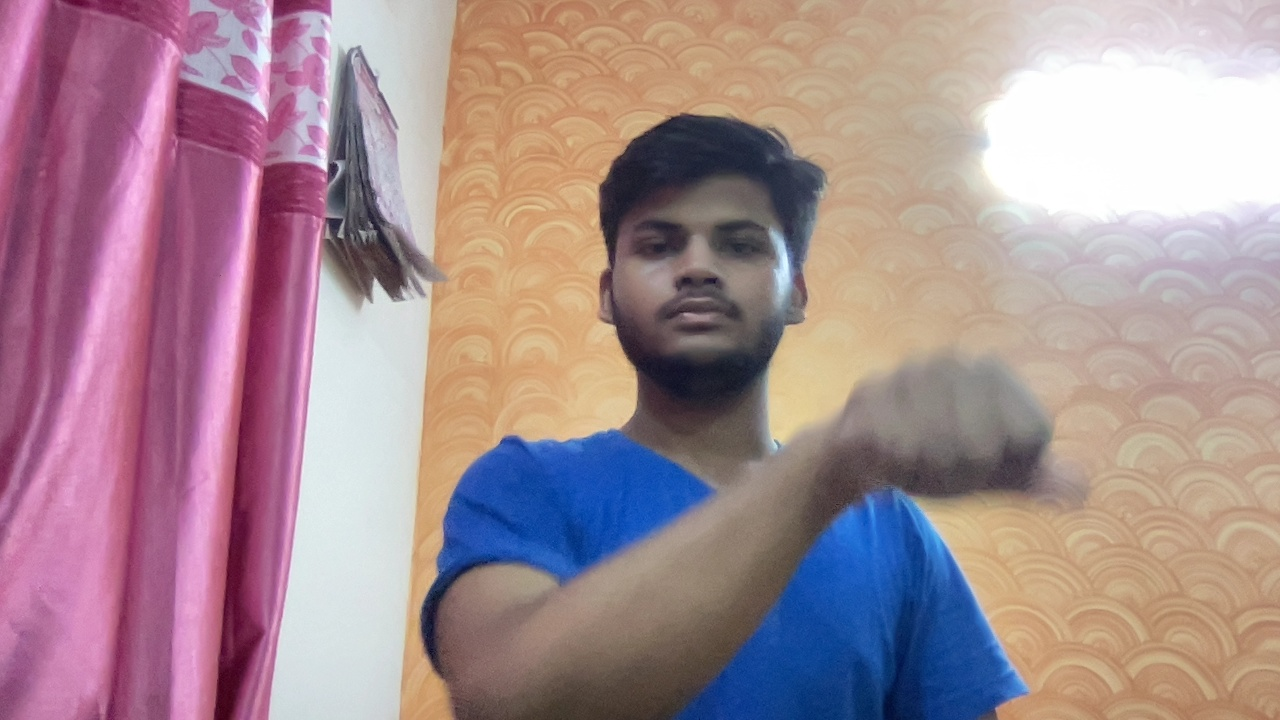yes: (826, 350, 1128, 540)
